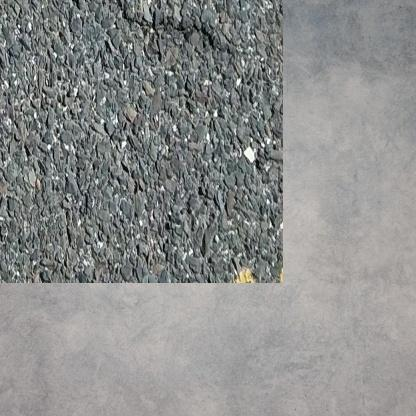Cracks: (103, 0, 201, 47)
